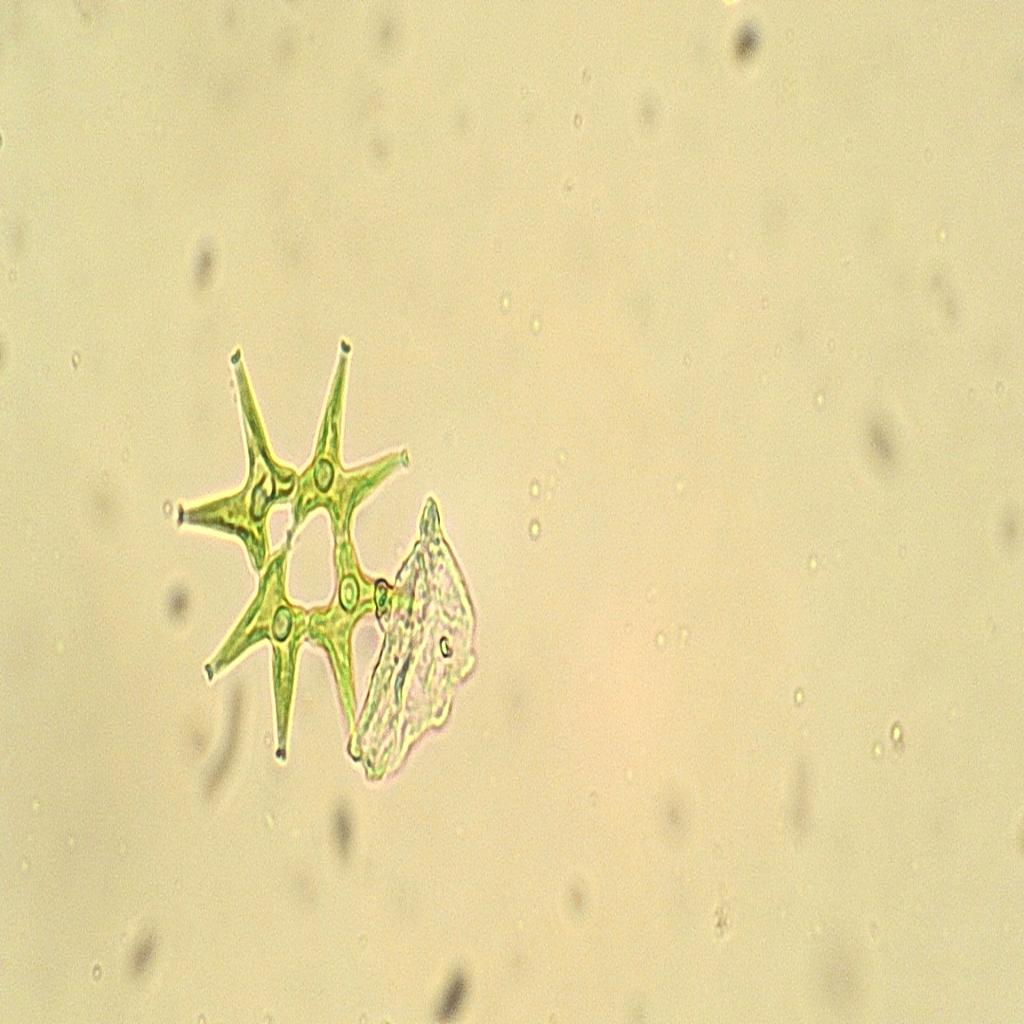Pediastrum_75FO: (162, 310, 446, 779)
